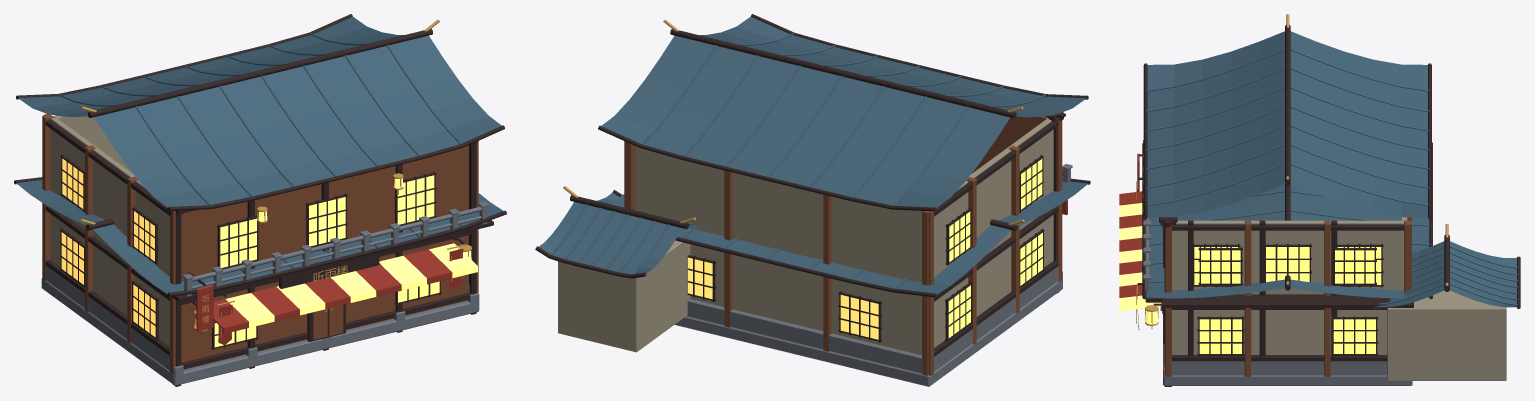
The model's file is model-shop-06.glb.
3 views of the same model, side by side, from view 1: azimuth 30°, elevation 25°; view 2: azimuth 150°, elevation 25°; view 3: azimuth 270°, elevation 25° (orthographic). The views are drawn at different scales.
Parts seen in each view (by area): view 1: model-shop-06; view 2: model-shop-06; view 3: model-shop-06.
Part boxes in pixels (left/top/right/bottom): model-shop-06: left=14, top=14, right=506, bottom=386; model-shop-06: left=535, top=14, right=1090, bottom=386; model-shop-06: left=1119, top=14, right=1520, bottom=386.
Bounding box in the file's own units: 15.2 × 9.29 × 15.12.
